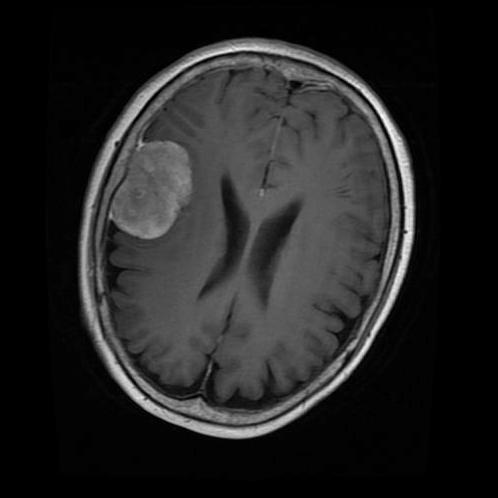Tumour-Meningioma: (94, 142, 216, 252)
